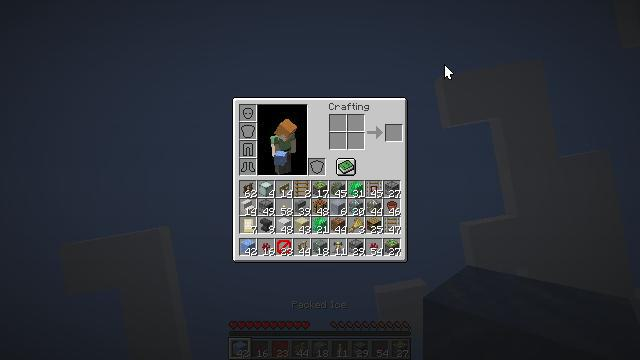cursor: (444, 64, 454, 80)
